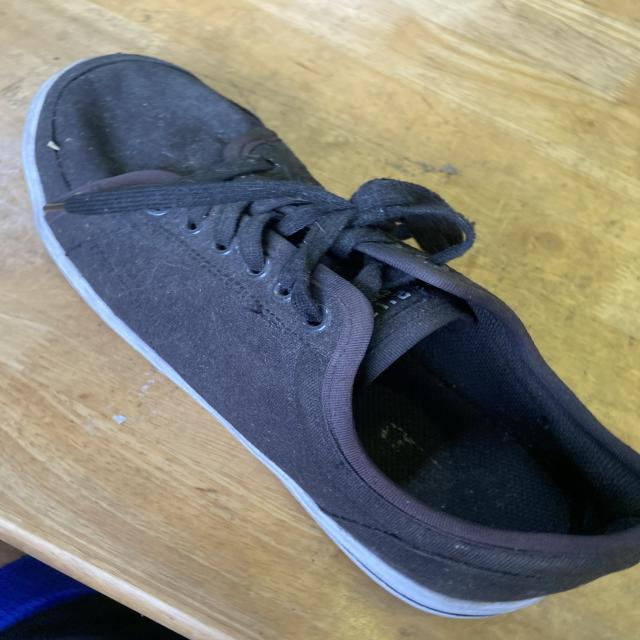broken-error: (234, 298, 282, 328), (322, 453, 356, 478)
